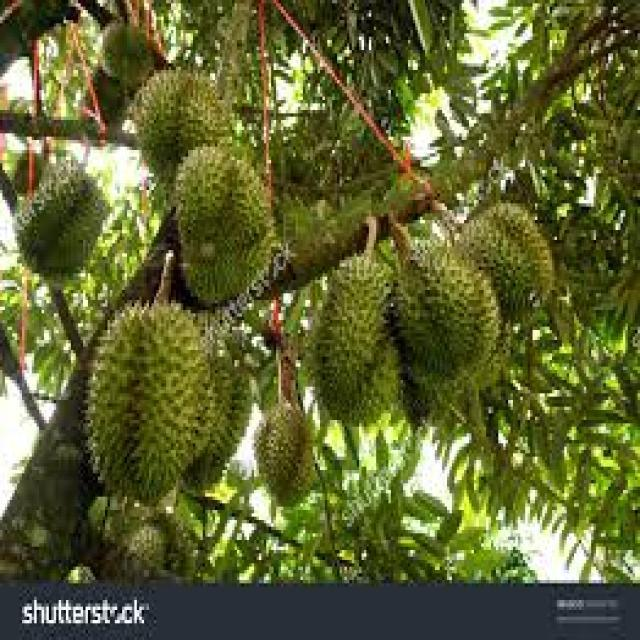immature: (82, 303, 214, 506), (310, 253, 406, 431), (174, 143, 275, 309), (391, 237, 504, 377), (9, 158, 113, 286), (133, 64, 231, 189), (463, 197, 557, 325)
